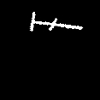double_crochet: (30, 12, 82, 30)
